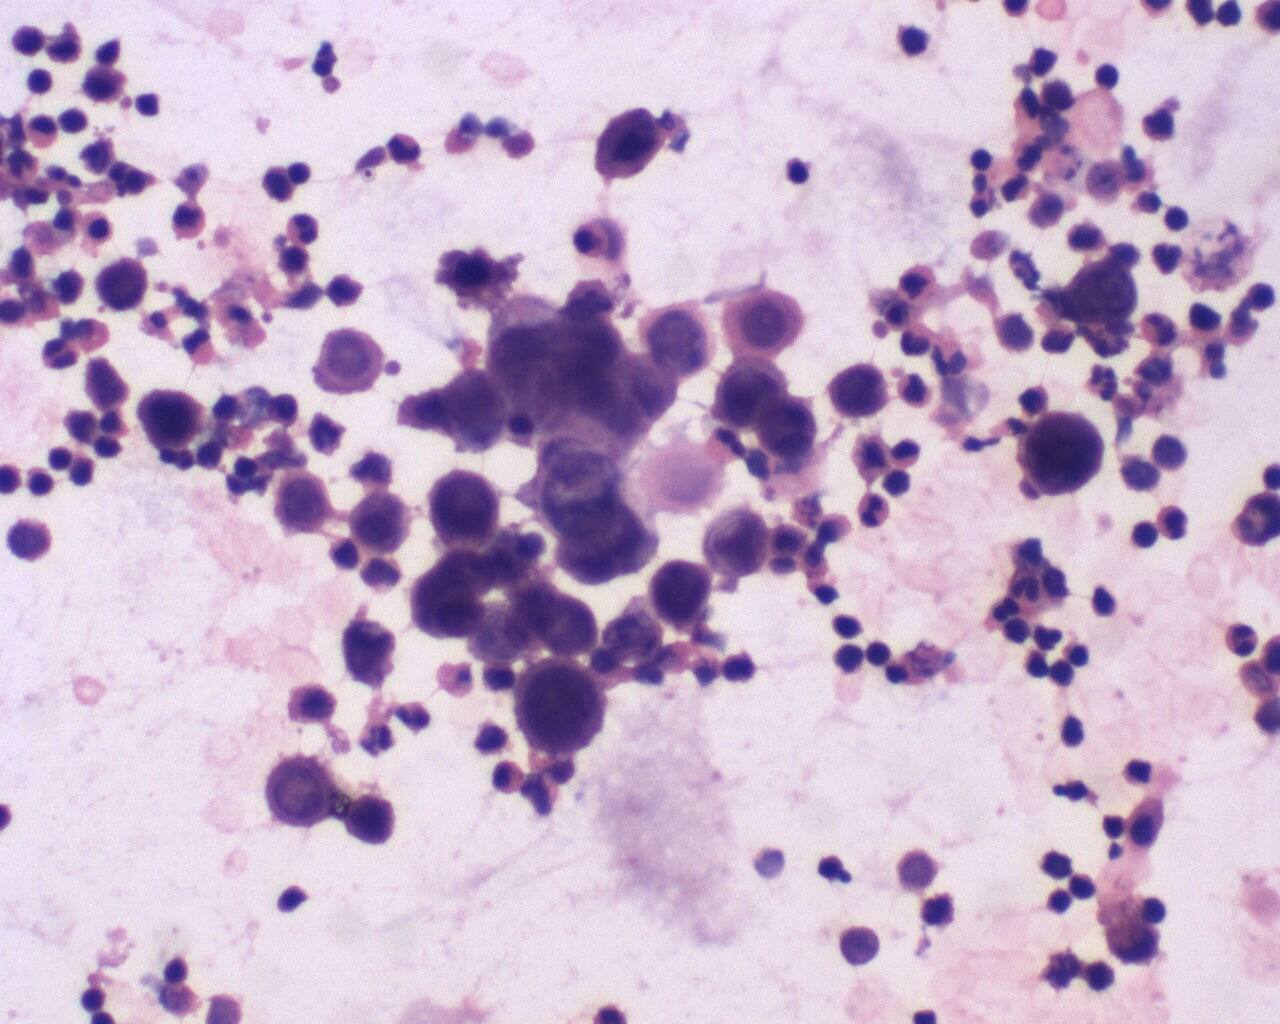ab: (515, 658, 608, 757), (1013, 410, 1097, 502), (425, 467, 506, 553), (644, 299, 718, 383), (514, 583, 599, 656), (1061, 255, 1148, 325), (133, 382, 210, 461), (594, 104, 669, 184), (264, 751, 339, 830), (649, 559, 718, 634), (704, 506, 771, 583), (755, 399, 820, 463), (830, 358, 889, 423), (274, 473, 331, 539), (353, 494, 414, 556), (94, 255, 149, 318), (347, 789, 402, 850)
lymph: (21, 461, 57, 499), (859, 639, 897, 674), (1091, 54, 1126, 90), (23, 63, 59, 98), (1161, 199, 1194, 236)
meso: (720, 286, 802, 357)
neutro: (182, 325, 226, 368), (1224, 619, 1263, 658), (853, 493, 893, 530), (389, 129, 425, 168), (1156, 503, 1191, 542), (284, 213, 319, 248)
